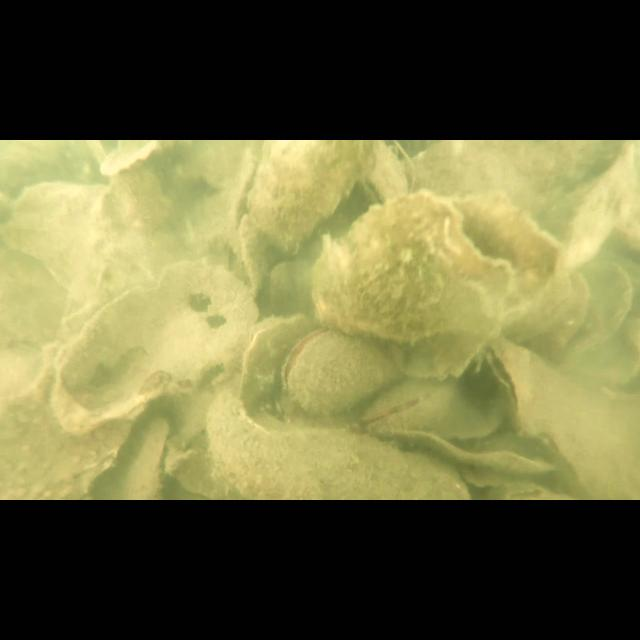Oyster-Closed: (207, 390, 466, 500), (0, 340, 132, 500), (248, 140, 372, 252)
Oyster-Open: (316, 188, 562, 344), (54, 258, 258, 432), (486, 336, 640, 500), (282, 329, 398, 415), (548, 260, 632, 364), (361, 376, 455, 432), (360, 140, 410, 208)
